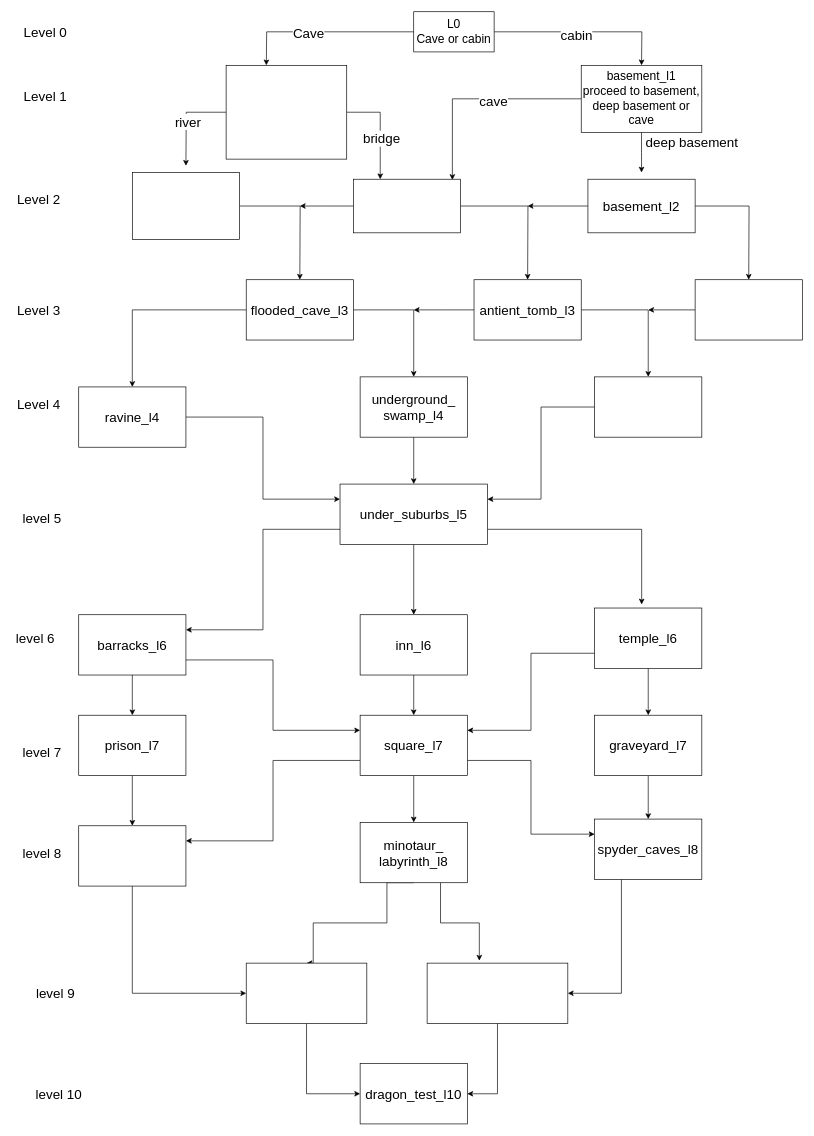
Image size: 814x1136. Some labels were removed from this diagram. The centre of each missing label's shape, as x and y in pixels:
"antient_tomb_l4" goes at point 648,406.
"catacombs_l8" goes at point 132,855.
"Cave_l1 Through river or through bridge" goes at point 286,112.
"cave_l2" goes at point 407,206.
"escape_elevator_l9" goes at point 497,992.
"escape_tunnel_l9" goes at point 306,992.
"flooded_cave_l2 deeper or deeper(doesnt matter)" goes at point 186,206.
"maze_l3" goes at point 748,309.
